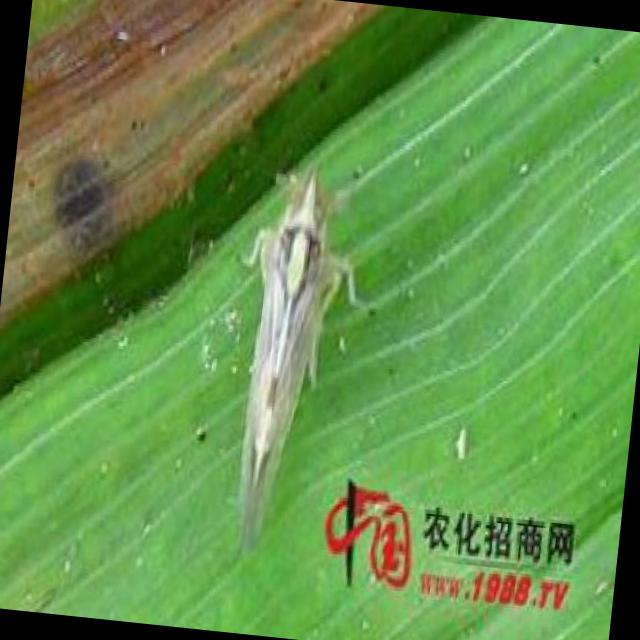brown-planthopper: (214, 165, 352, 562)
